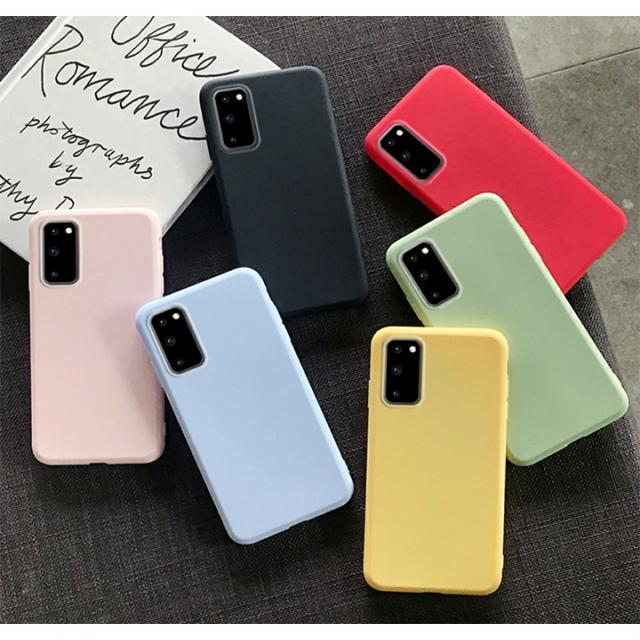phone: (364, 324, 510, 594)
